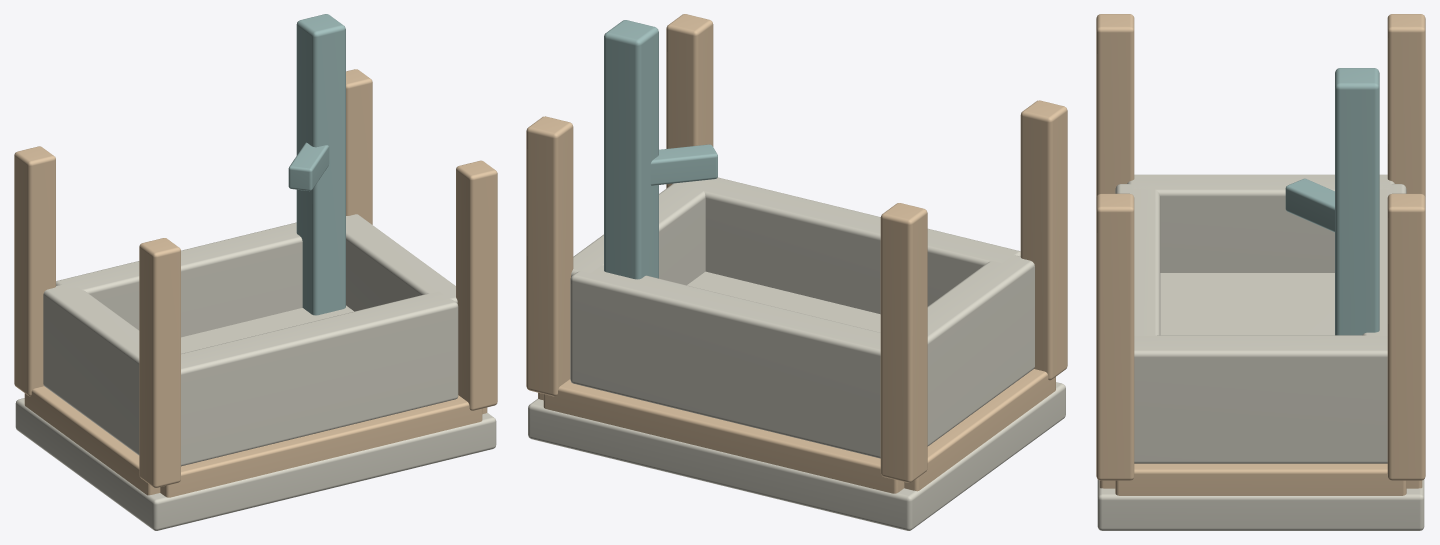
Rendered from water-point-roof.glb.
3 renders of one model, left to right at view 1: azimuth 30°, elevation 25°; view 2: azimuth 150°, elevation 25°; view 3: azimuth 270°, elevation 25°, orthographic. The views are drawn at different scales.
Parts seen in each view (by area): view 1: Trough side, Rounded stone footing.014, Trough side.001, Service mast, Trough end, Corner post.040, Corner post.042, Corner post.041, Sill beam.056, Trough end.001, Sill beam.058, Corner post.043 (+2 smaller); view 2: Trough side.001, Trough side, Rounded stone footing.014, Trough end, Service mast, Corner post.041, Corner post.043, Corner post.040, Sill beam.057, Corner post.042, Trough end.001, Sill beam.058 (+2 smaller); view 3: Trough end.001, Trough end, Service mast, Rounded stone footing.014, Corner post.042, Corner post.043, Trough floor, Sill beam.059, Corner post.040, Corner post.041, Trough side, Spout (+1 smaller).
Part boxes in pixels (box(x1,y1,x2,y2)): Trough side: box(181, 291, 458, 466); Rounded stone footing.014: box(15, 398, 496, 530); Trough side.001: box(56, 222, 347, 337); Service mast: box(296, 14, 345, 315); Trough end: box(43, 284, 181, 455); Corner post.040: box(139, 238, 180, 487); Corner post.042: box(456, 160, 497, 410); Corner post.041: box(14, 146, 55, 396); Sill beam.056: box(160, 395, 482, 497); Trough end.001: box(346, 214, 457, 311); Sill beam.058: box(24, 386, 160, 495); Corner post.043: box(346, 69, 372, 224); Trough side.001: box(570, 265, 880, 458); Trough side: box(694, 177, 1020, 314); Rounded stone footing.014: box(528, 382, 1065, 530); Trough end: box(880, 255, 1034, 446); Service mast: box(604, 20, 658, 279); Corner post.041: box(880, 203, 927, 482); Corner post.043: box(526, 116, 573, 396); Corner post.040: box(1020, 100, 1067, 380); Sill beam.057: box(543, 379, 904, 493); Corner post.042: box(666, 14, 713, 188); Trough end.001: box(571, 180, 711, 285); Sill beam.058: box(904, 369, 1055, 491); Trough end.001: box(1134, 335, 1387, 463); Trough end: box(1127, 174, 1394, 272); Service mast: box(1335, 68, 1379, 335); Rounded stone footing.014: box(1097, 479, 1424, 530); Corner post.042: box(1096, 193, 1134, 480); Corner post.043: box(1387, 193, 1425, 480); Trough floor: box(1160, 273, 1334, 335); Sill beam.059: box(1115, 463, 1406, 495); Corner post.040: box(1096, 14, 1134, 197); Corner post.041: box(1387, 14, 1425, 197); Trough side: box(1115, 184, 1160, 335); Spout: box(1285, 178, 1334, 232).
Bounding box in the file's own units: 2.07 × 2.07 × 1.47.
